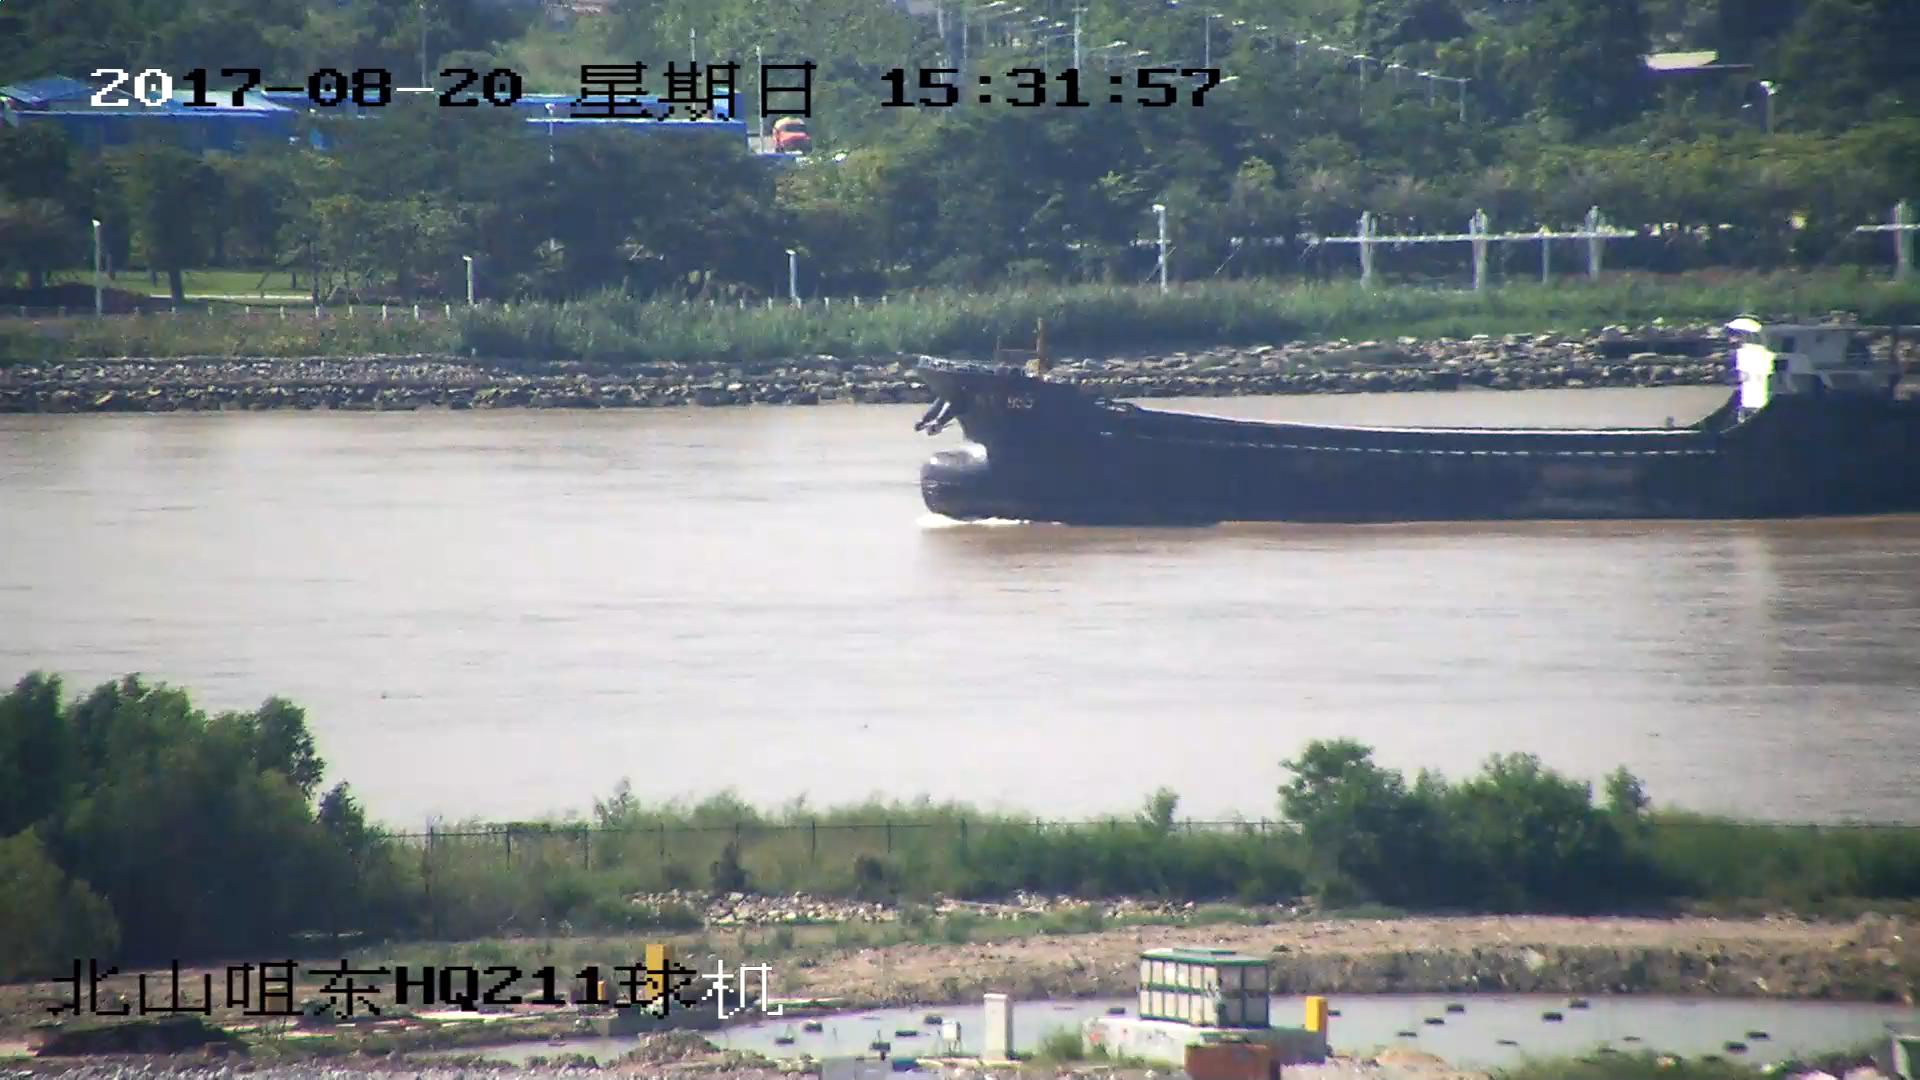general cargo ship: (925, 322, 1920, 519)
